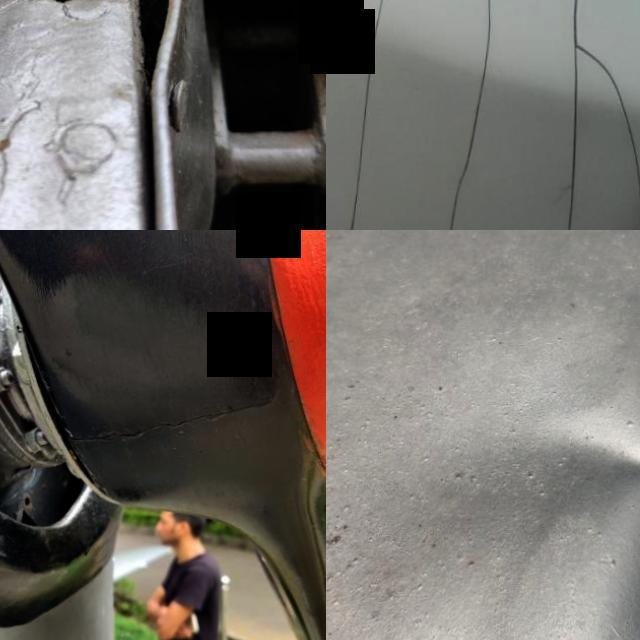Crack: (62, 366, 291, 462), (566, 0, 640, 230), (447, 0, 495, 230), (351, 0, 388, 230), (20, 0, 138, 24)
Dent: (542, 397, 640, 528)
